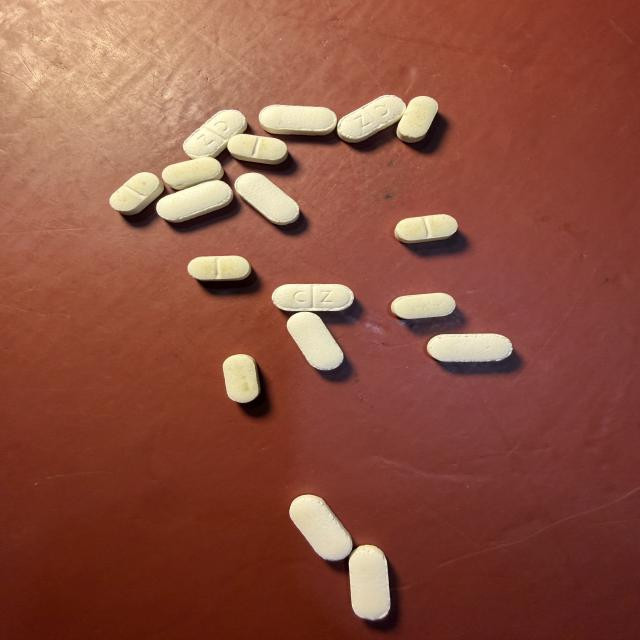pill: (290, 495, 352, 560), (235, 173, 299, 225), (287, 312, 343, 370), (337, 95, 405, 142), (349, 545, 390, 620), (157, 181, 232, 222), (184, 110, 247, 158), (427, 334, 512, 362), (110, 172, 164, 215), (259, 105, 336, 135), (272, 284, 353, 311), (162, 157, 223, 189), (397, 96, 438, 142), (223, 354, 260, 403), (228, 134, 287, 164), (395, 215, 457, 243), (391, 293, 455, 319), (188, 256, 251, 281)
